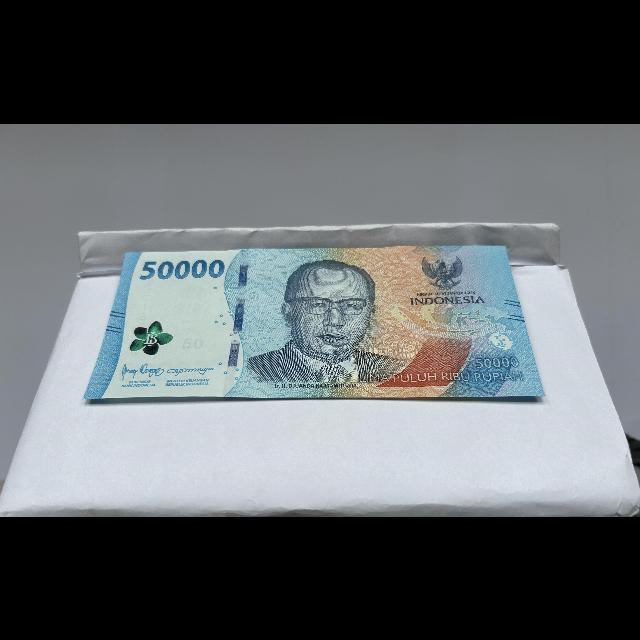Asli-50k: (77, 242, 549, 402)
Tinta-Asli-50k: (125, 308, 179, 364)
